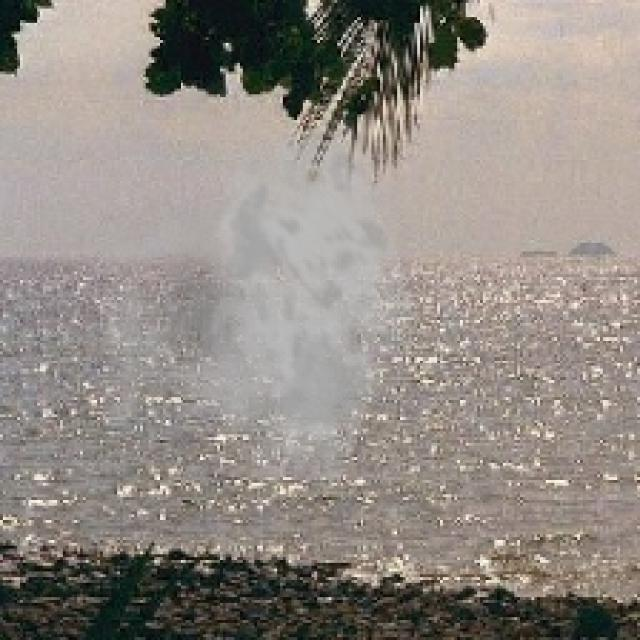smoke: (69, 111, 414, 508)
